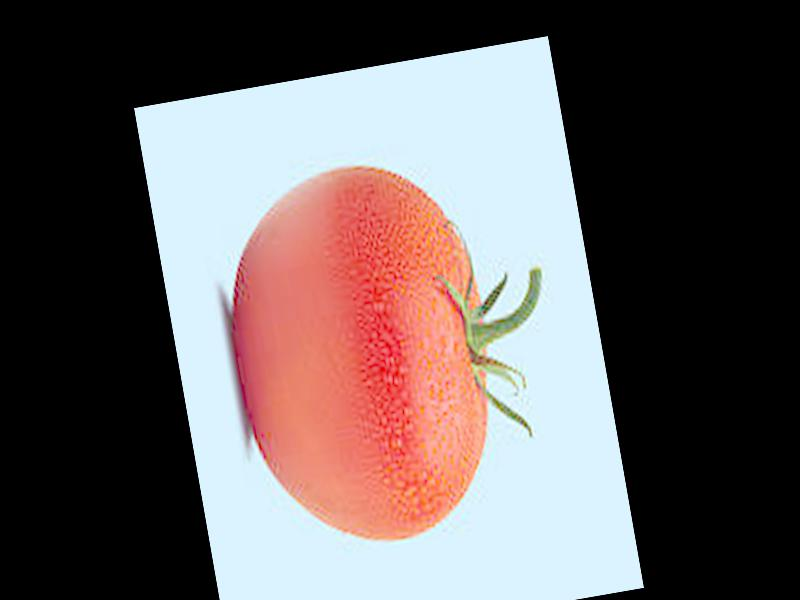Tomato: (211, 150, 516, 562)
